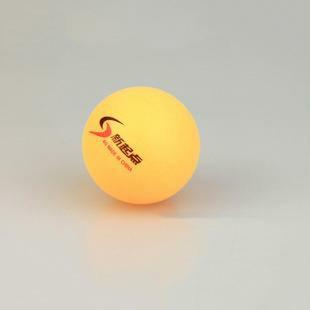ball: (77, 83, 200, 207)
